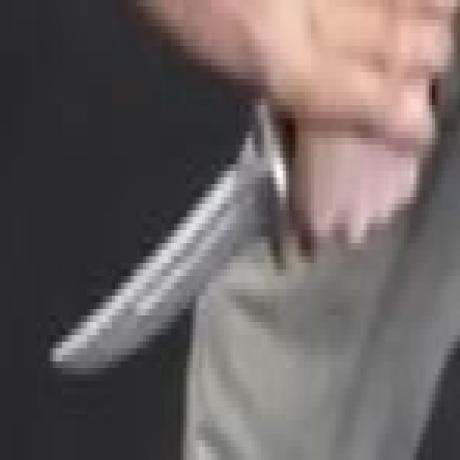1: (128, 0, 460, 250)
weapon: (50, 110, 294, 388)
